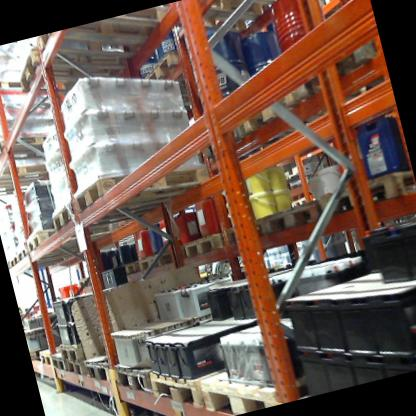pallet: (73, 147, 221, 225), (12, 27, 133, 111), (35, 5, 175, 75), (47, 173, 192, 239), (285, 30, 386, 120), (157, 0, 289, 58), (198, 353, 302, 416), (316, 160, 416, 222), (24, 207, 131, 262), (234, 75, 304, 149), (0, 60, 60, 118), (190, 112, 253, 166), (0, 120, 62, 174), (13, 230, 86, 274), (107, 351, 161, 407), (216, 211, 276, 261), (0, 150, 63, 195), (259, 197, 326, 238), (156, 362, 205, 416), (183, 227, 232, 265), (74, 348, 110, 387), (55, 334, 93, 368), (52, 351, 90, 382), (153, 247, 190, 271), (33, 338, 59, 368), (45, 346, 67, 378), (118, 255, 144, 282), (9, 249, 32, 274), (137, 250, 159, 276)
